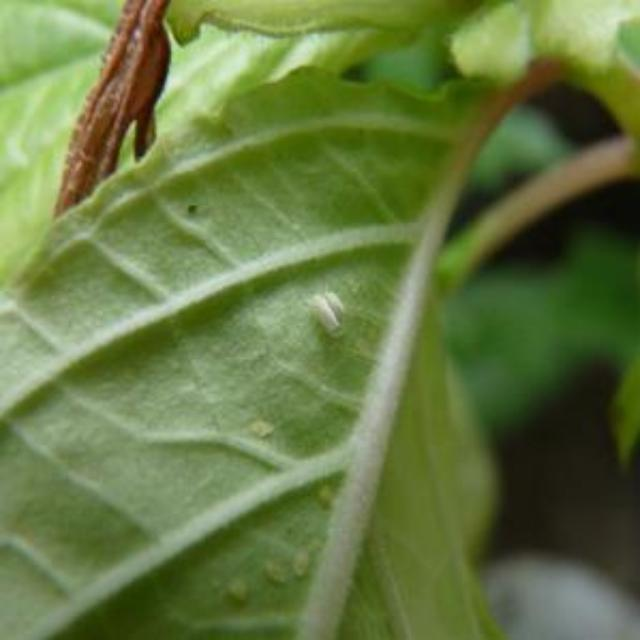Silverleaf whitefly: (296, 281, 366, 351)
